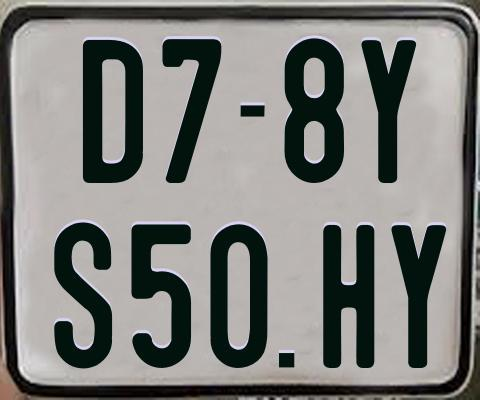0: (207, 222, 269, 368)
5: (128, 222, 190, 371)
7: (162, 37, 226, 187)
8: (283, 35, 349, 185)
D: (82, 38, 145, 187)
H: (321, 222, 374, 371)
S: (51, 219, 115, 367)
Y: (358, 38, 417, 187), (390, 223, 447, 370)
